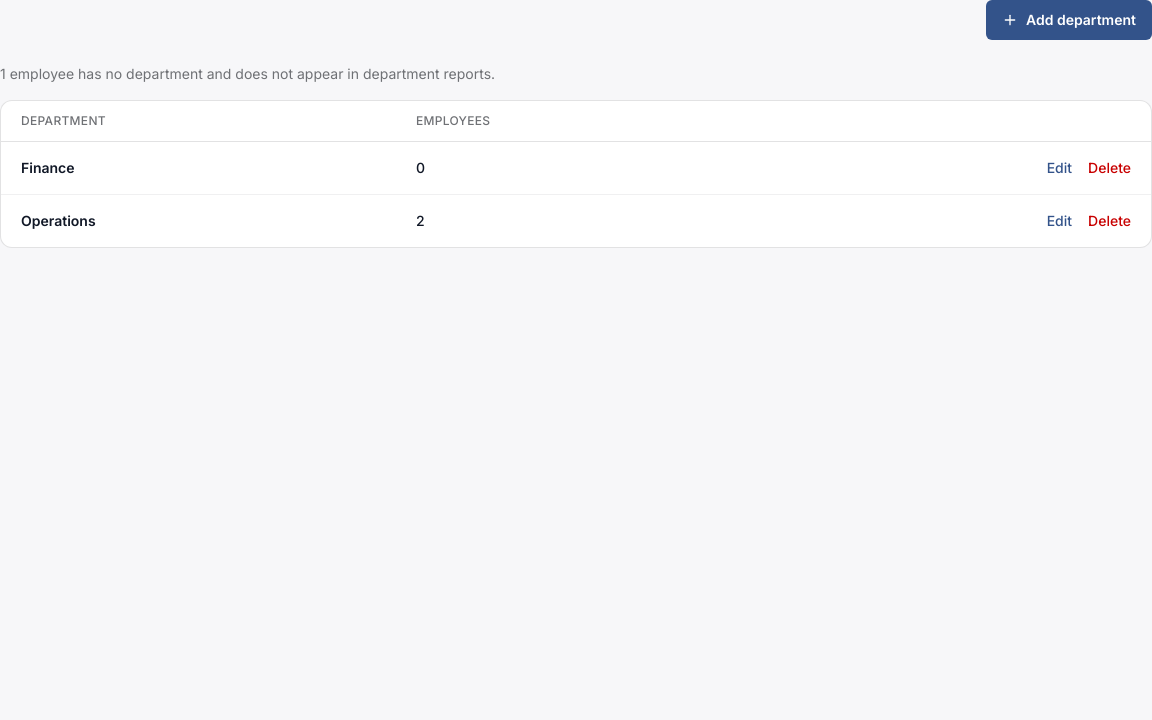
it: reads the table again after a delete
Click the button "Delete" in the row of "Finance" at (1110, 168), box [1088,158,1131,178]
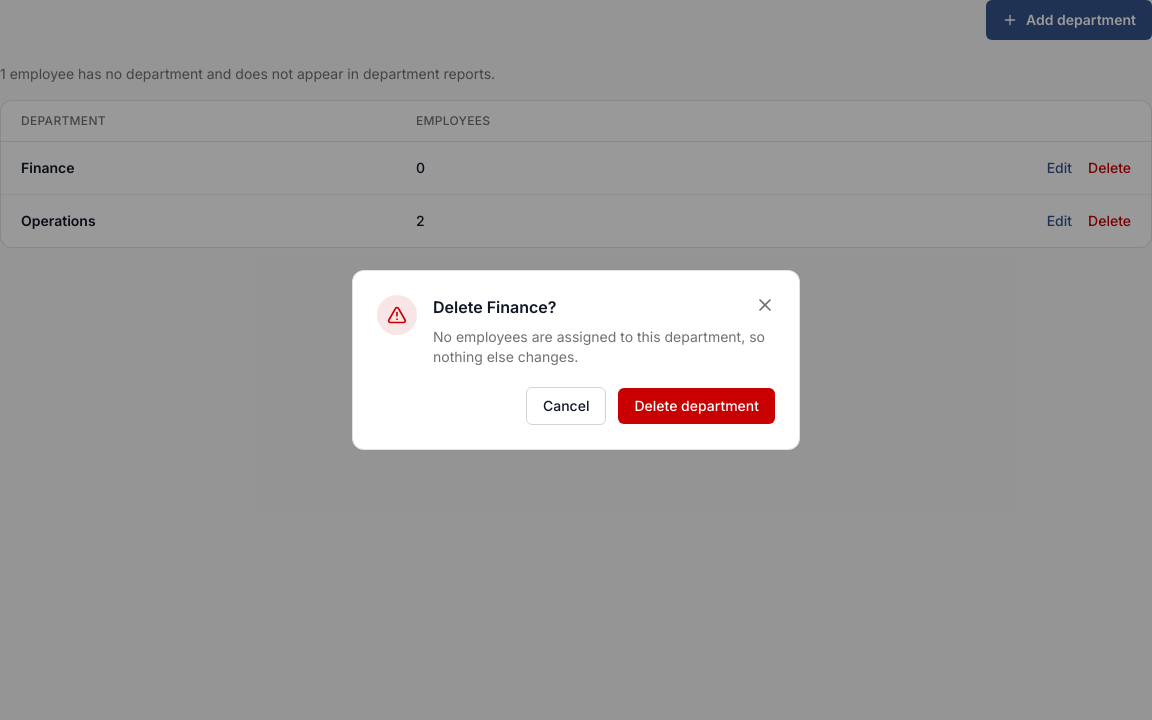
Click the button "Delete department" at (697, 406), box [618,388,775,424]
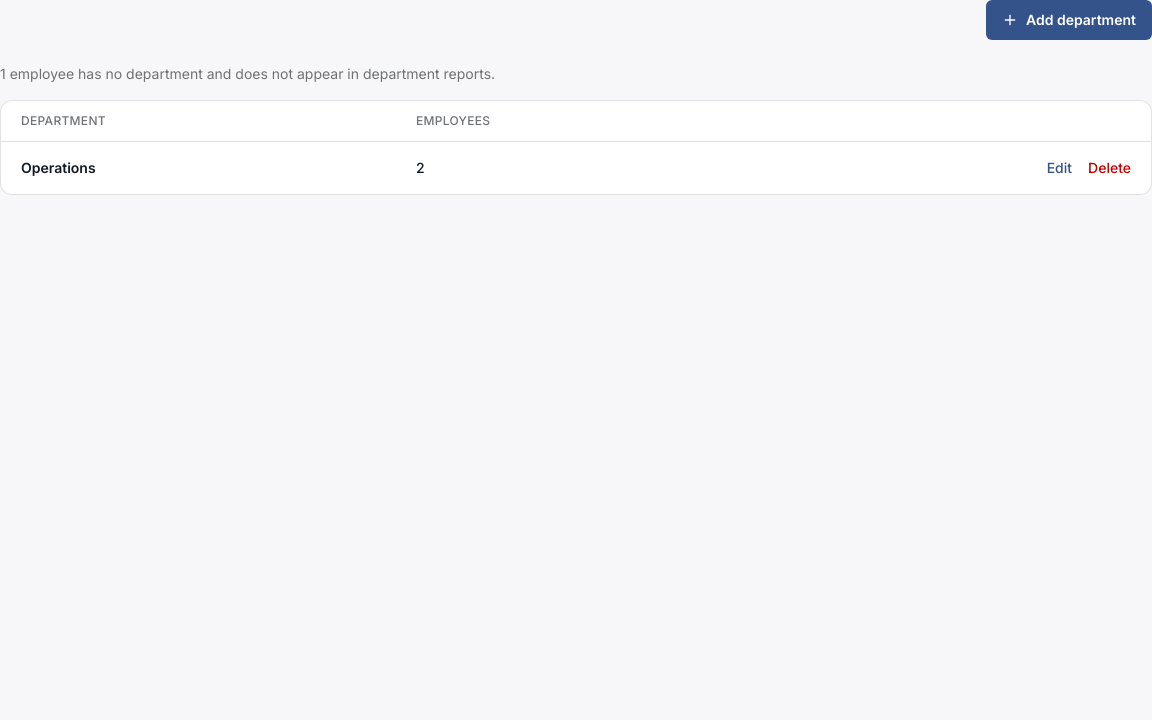
Result: the text "Finance" is not shown
